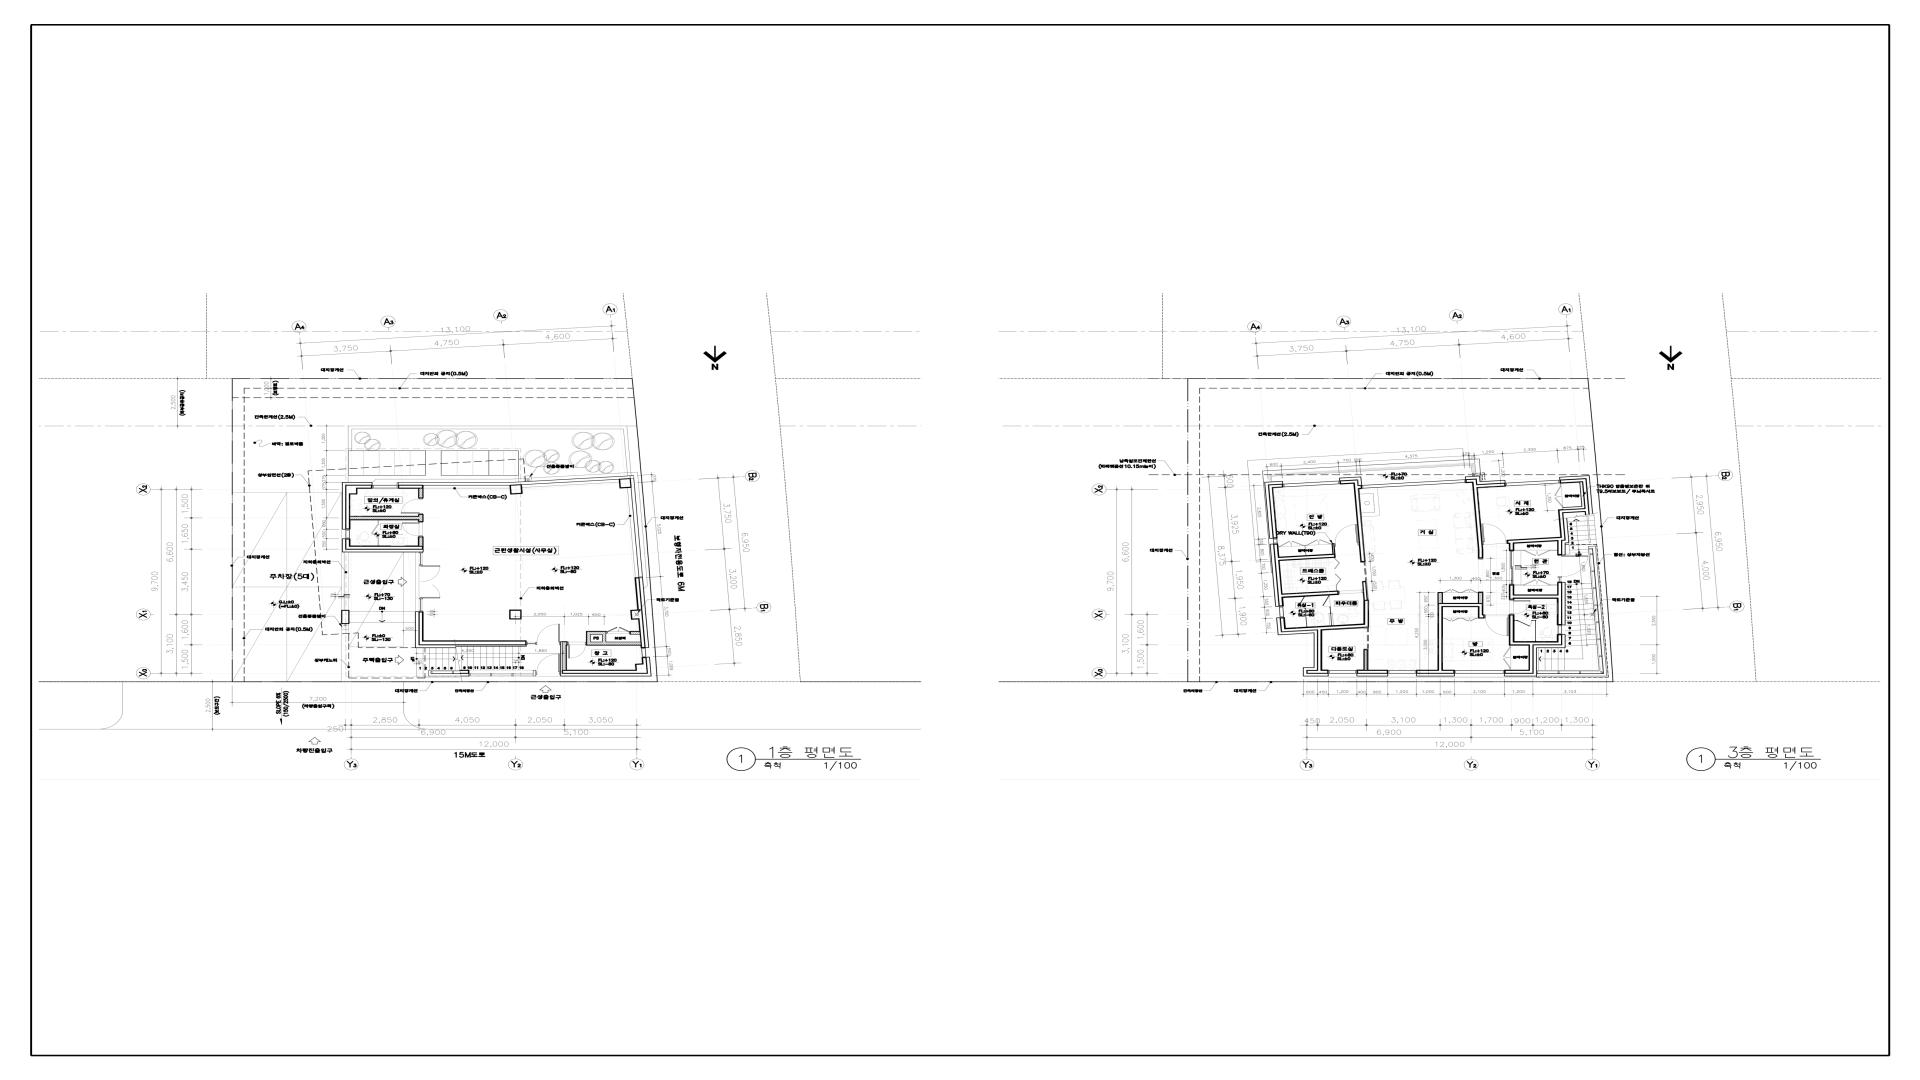door: (419, 566, 440, 598), (1558, 555, 1588, 576), (1332, 524, 1359, 547), (1481, 523, 1507, 545), (536, 654, 561, 676), (537, 624, 561, 645), (1485, 615, 1509, 636), (401, 498, 424, 514), (1510, 600, 1531, 615), (402, 522, 424, 536), (568, 642, 586, 658), (606, 627, 630, 633), (1363, 627, 1369, 649), (1510, 551, 1514, 584), (1361, 562, 1367, 582), (1297, 597, 1306, 609), (1518, 620, 1532, 627), (1323, 595, 1331, 607), (1339, 590, 1363, 594)
wall: (398, 475, 643, 577), (415, 611, 527, 648), (560, 657, 652, 676), (342, 482, 373, 530), (631, 577, 649, 648), (342, 539, 424, 552), (1354, 484, 1366, 562), (1472, 482, 1483, 558), (1268, 484, 1283, 539), (1273, 543, 1284, 606), (1281, 624, 1363, 632), (586, 635, 641, 646), (1283, 590, 1339, 598), (1507, 537, 1566, 544), (1279, 554, 1336, 561), (1438, 603, 1443, 670), (1509, 594, 1557, 600), (350, 516, 418, 520), (1582, 482, 1590, 515), (429, 670, 469, 676), (1515, 641, 1562, 646), (586, 631, 606, 642), (1557, 582, 1562, 625), (561, 641, 568, 670), (1317, 630, 1322, 670), (1509, 614, 1515, 646), (1363, 600, 1369, 628), (1558, 513, 1565, 537), (1560, 478, 1587, 484), (1416, 670, 1455, 674), (1477, 483, 1506, 488), (1529, 645, 1534, 674), (1443, 603, 1478, 607), (1558, 508, 1585, 513), (1363, 649, 1369, 670), (341, 610, 350, 624), (1357, 670, 1388, 674), (1362, 581, 1368, 600), (1478, 603, 1485, 618), (1504, 670, 1529, 674), (1306, 670, 1329, 674), (1339, 480, 1359, 484), (1557, 541, 1562, 555), (1280, 617, 1286, 628), (418, 488, 424, 498), (418, 536, 424, 546), (1438, 592, 1443, 603), (1478, 592, 1483, 603), (1509, 584, 1514, 594), (1465, 479, 1477, 483), (418, 514, 424, 522), (630, 631, 640, 635), (1305, 608, 1307, 627), (1509, 544, 1514, 551), (1557, 634, 1562, 641), (1332, 543, 1335, 554), (1535, 620, 1536, 641), (1329, 607, 1331, 613), (1532, 620, 1535, 621), (1515, 620, 1518, 621)
window: (1537, 546, 1604, 674), (1362, 479, 1466, 488), (469, 670, 536, 676), (1283, 481, 1340, 487), (1506, 480, 1560, 486), (1455, 670, 1504, 676), (1329, 670, 1357, 677), (372, 482, 398, 489), (1388, 670, 1416, 676), (1276, 606, 1284, 617), (641, 648, 650, 657), (342, 529, 350, 539), (1558, 625, 1565, 634), (1329, 613, 1334, 625), (419, 552, 423, 566), (419, 598, 423, 611), (1270, 538, 1278, 544), (527, 642, 537, 645), (1558, 576, 1562, 582)
